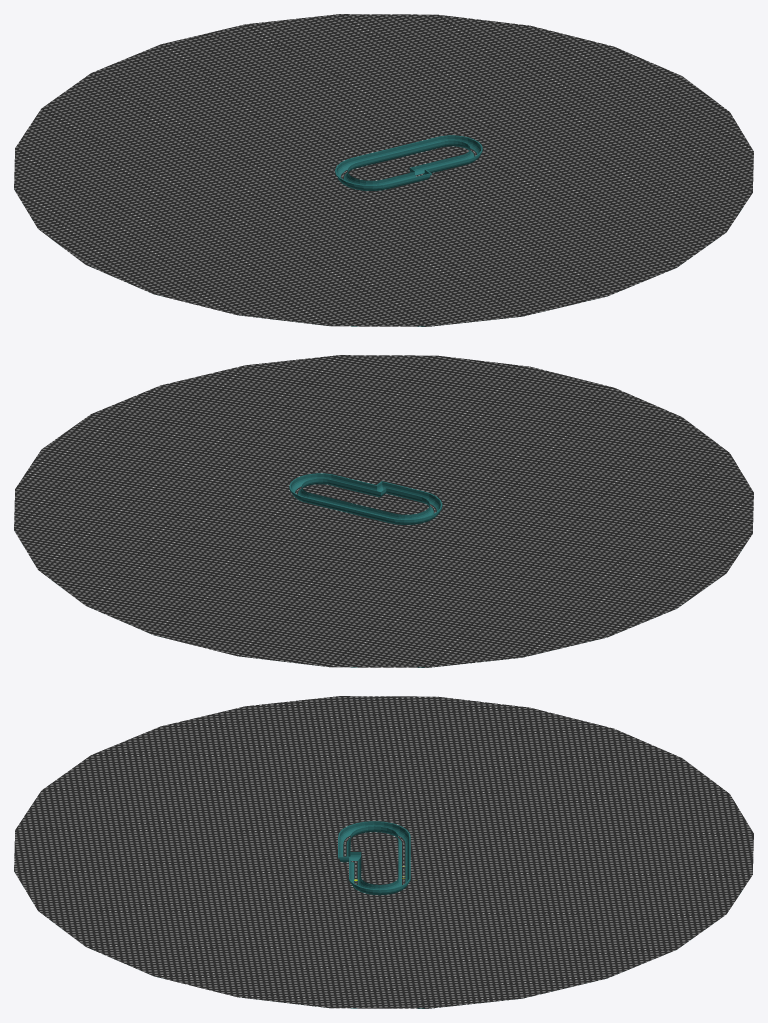
3 renders of one model, top to bottom at view 1: azimuth 30°, elevation 25°; view 2: azimuth 150°, elevation 25°; view 3: azimuth 270°, elevation 25°, orthographic.
Parts seen in each view (by area): view 1: Model2-SKP--1, Model2-SKP--0160, Model2-SKP--002C, Model2-SKP--New4000; view 2: Model2-SKP--1, Model2-SKP--0160, Model2-SKP--002C, Model2-SKP--New4000; view 3: Model2-SKP--1, Model2-SKP--0160, Model2-SKP--002C.
Boxes of the visible parts, box(x1,y1,x2,y2) form: Model2-SKP--1: box(14, 14, 753, 326); Model2-SKP--0160: box(337, 139, 480, 190); Model2-SKP--002C: box(335, 135, 482, 187); Model2-SKP--New4000: box(336, 137, 480, 188); Model2-SKP--1: box(14, 355, 753, 667); Model2-SKP--0160: box(291, 477, 440, 524); Model2-SKP--002C: box(289, 473, 442, 521); Model2-SKP--New4000: box(291, 475, 440, 522); Model2-SKP--1: box(14, 696, 753, 1008); Model2-SKP--0160: box(339, 824, 409, 895); Model2-SKP--002C: box(338, 821, 410, 891).
Bounding box in the file's own units: 388105 × 4345 × 388105.
Materials: 8 (8 with a texture image).
